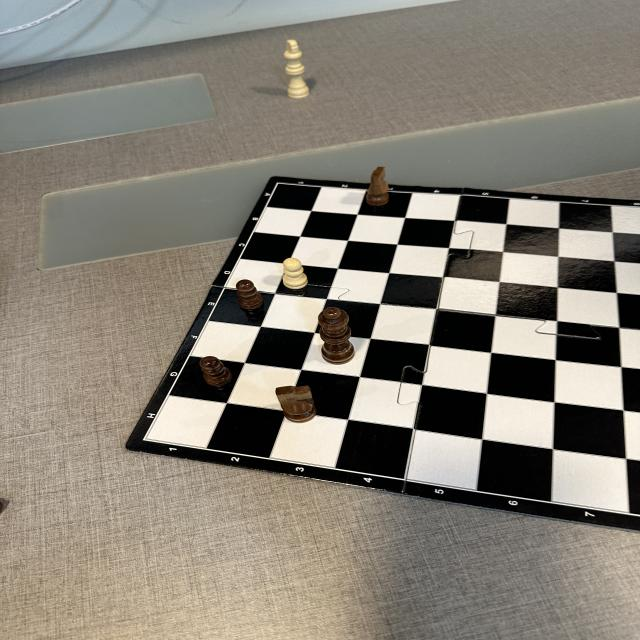Black-Knight: (276, 385, 316, 423), (366, 166, 390, 207)
Black-Pawn: (199, 356, 233, 387), (236, 280, 264, 310)
Black-Queen: (318, 306, 355, 365)
White-King: (283, 40, 310, 100)
White-Pawn: (282, 258, 309, 290)
